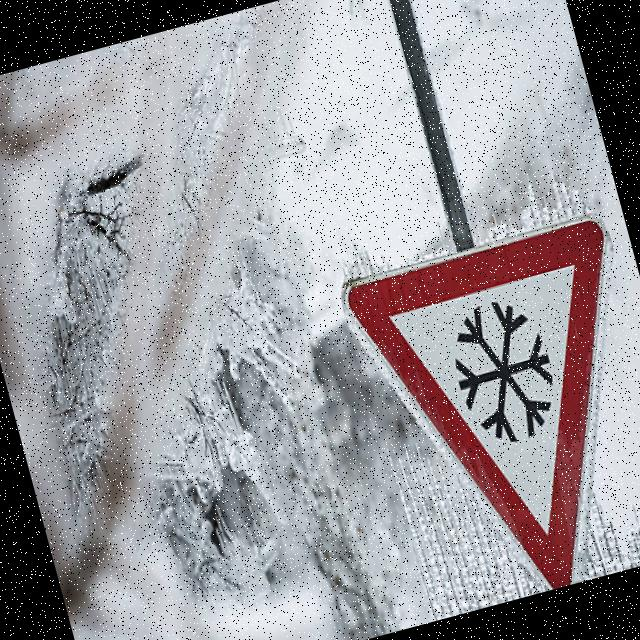snow_warning: (323, 197, 640, 625)
